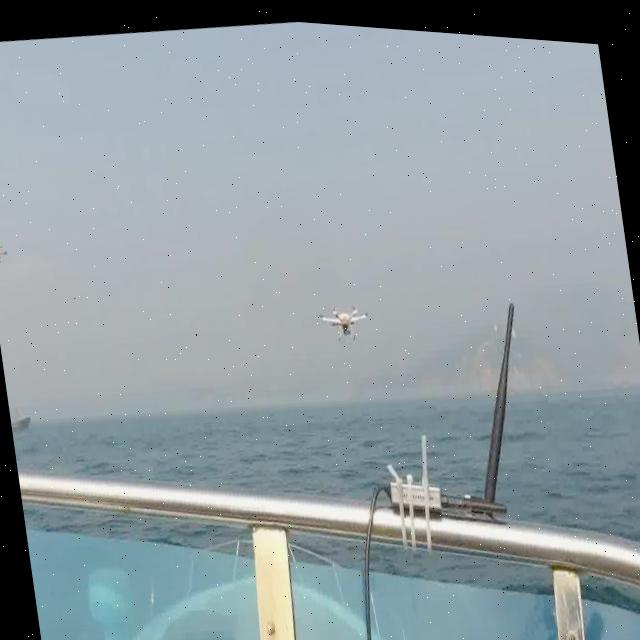drone: (314, 291, 374, 346)
